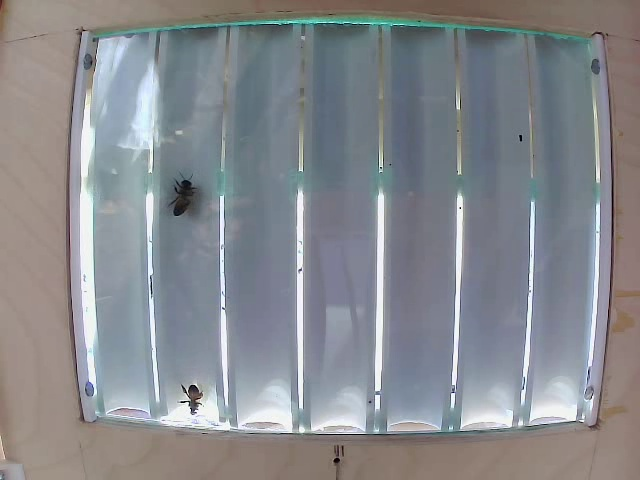bee: (155, 165, 206, 235), (179, 375, 222, 419)
